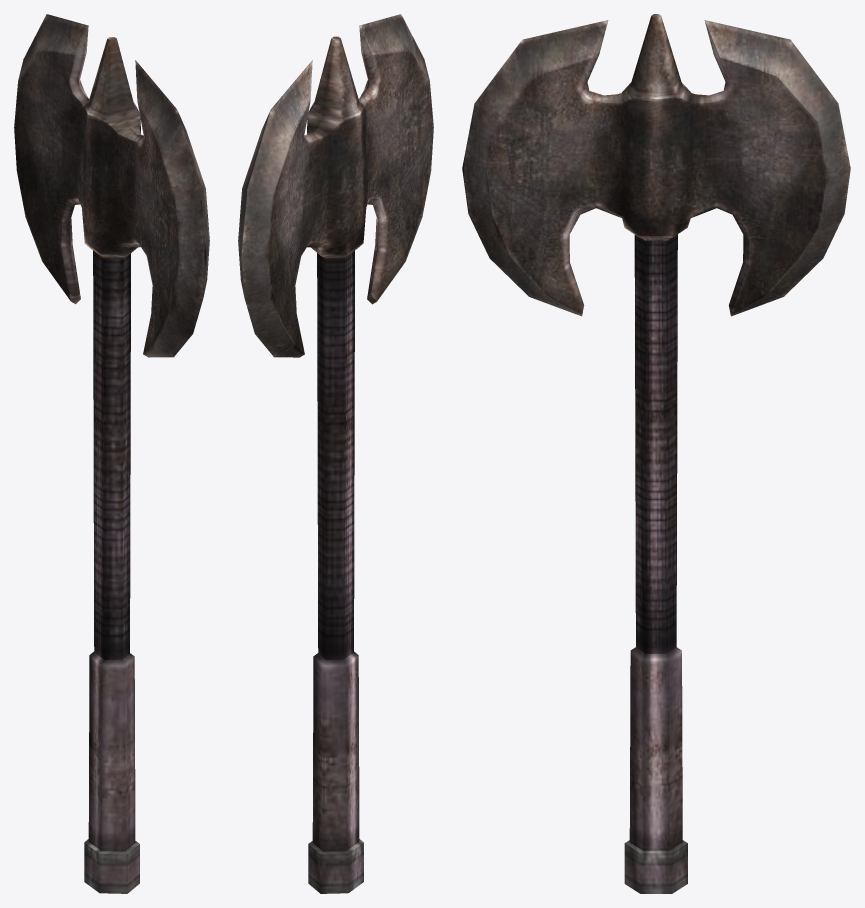
The model's file is weapons_axe05.glb.
3 views of the same model, side by side, from view 1: azimuth 30°, elevation 25°; view 2: azimuth 150°, elevation 25°; view 3: azimuth 270°, elevation 25° (orthographic). The views are drawn at different scales.
Visible parts, largest first — view 1: axe05; view 2: axe05; view 3: axe05.
Boxes of the visible parts, box(x1,y1,x2,y2) form: axe05: box(14, 14, 209, 893); axe05: box(238, 14, 433, 893); axe05: box(462, 14, 850, 893).
Size of the model in its own units: 0.0601 by 0.9993 by 0.4038.
1 material, 1 textured.
